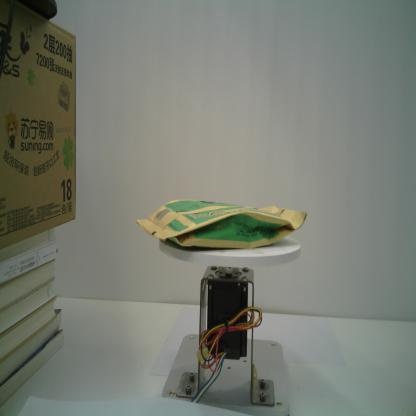Dried Food: (132, 191, 309, 253)
